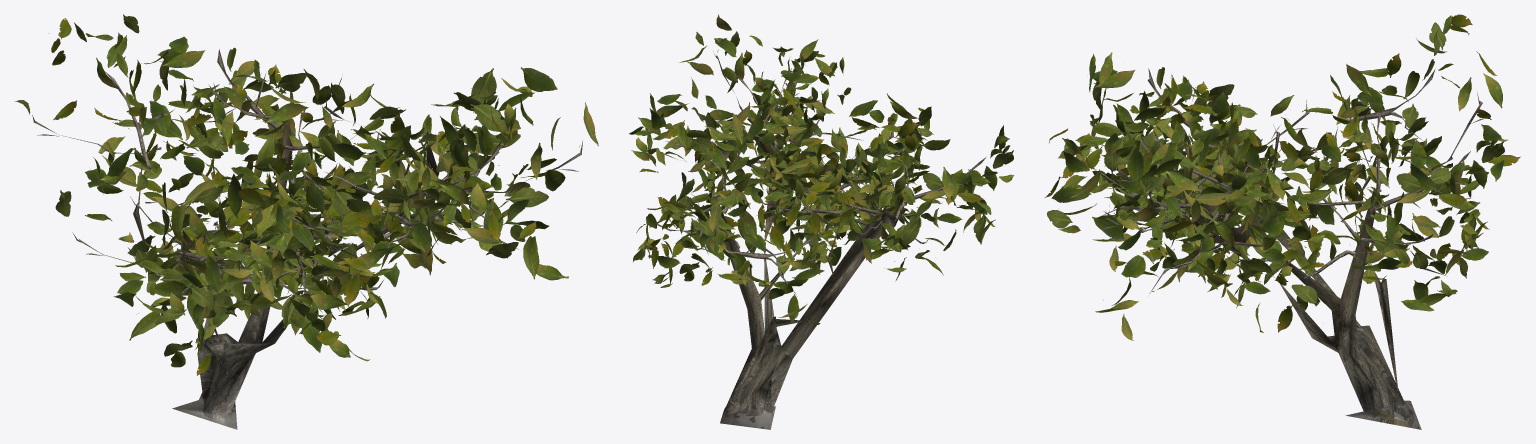
File: tree_island.glb
3 views of the same model, side by side, from view 1: azimuth 30°, elevation 25°; view 2: azimuth 150°, elevation 25°; view 3: azimuth 270°, elevation 25° (orthographic). The views are drawn at different scales.
Visible parts, largest first — view 1: island_tree_02_LOD0; view 2: island_tree_02_LOD0; view 3: island_tree_02_LOD0.
Boxes of the visible parts, box(x1,y1,x2,y2) form: island_tree_02_LOD0: box(14, 14, 598, 429); island_tree_02_LOD0: box(629, 14, 1014, 429); island_tree_02_LOD0: box(1045, 14, 1520, 429).
Size of the model in its own units: 7.47 by 6.5 by 7.9.
Materials: 3 (3 with a texture image).
